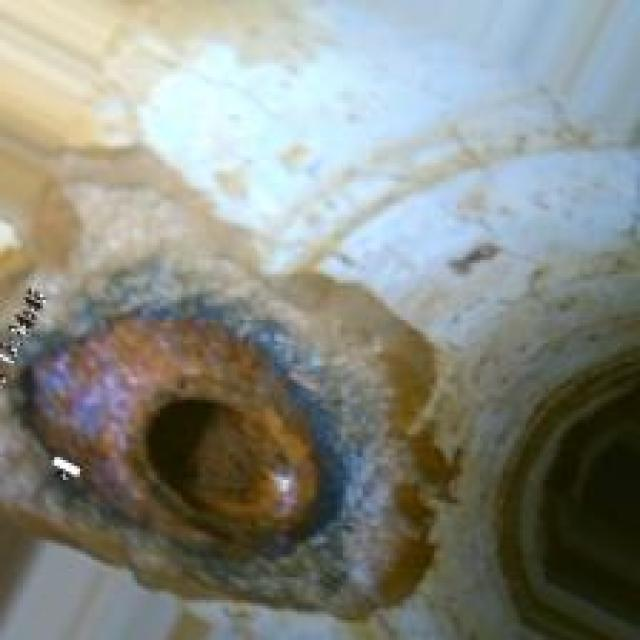ferrule: (83, 297, 363, 574)
